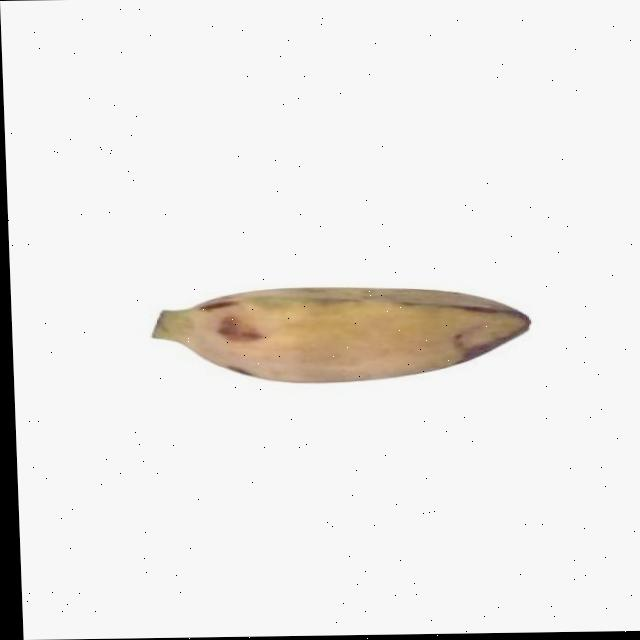banana: (146, 280, 534, 388)
